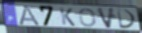7: (39, 5, 56, 27)
A: (17, 5, 41, 27)
D: (116, 8, 138, 29)
K: (59, 7, 77, 27)
O: (79, 8, 98, 28)
V: (95, 7, 117, 30)
